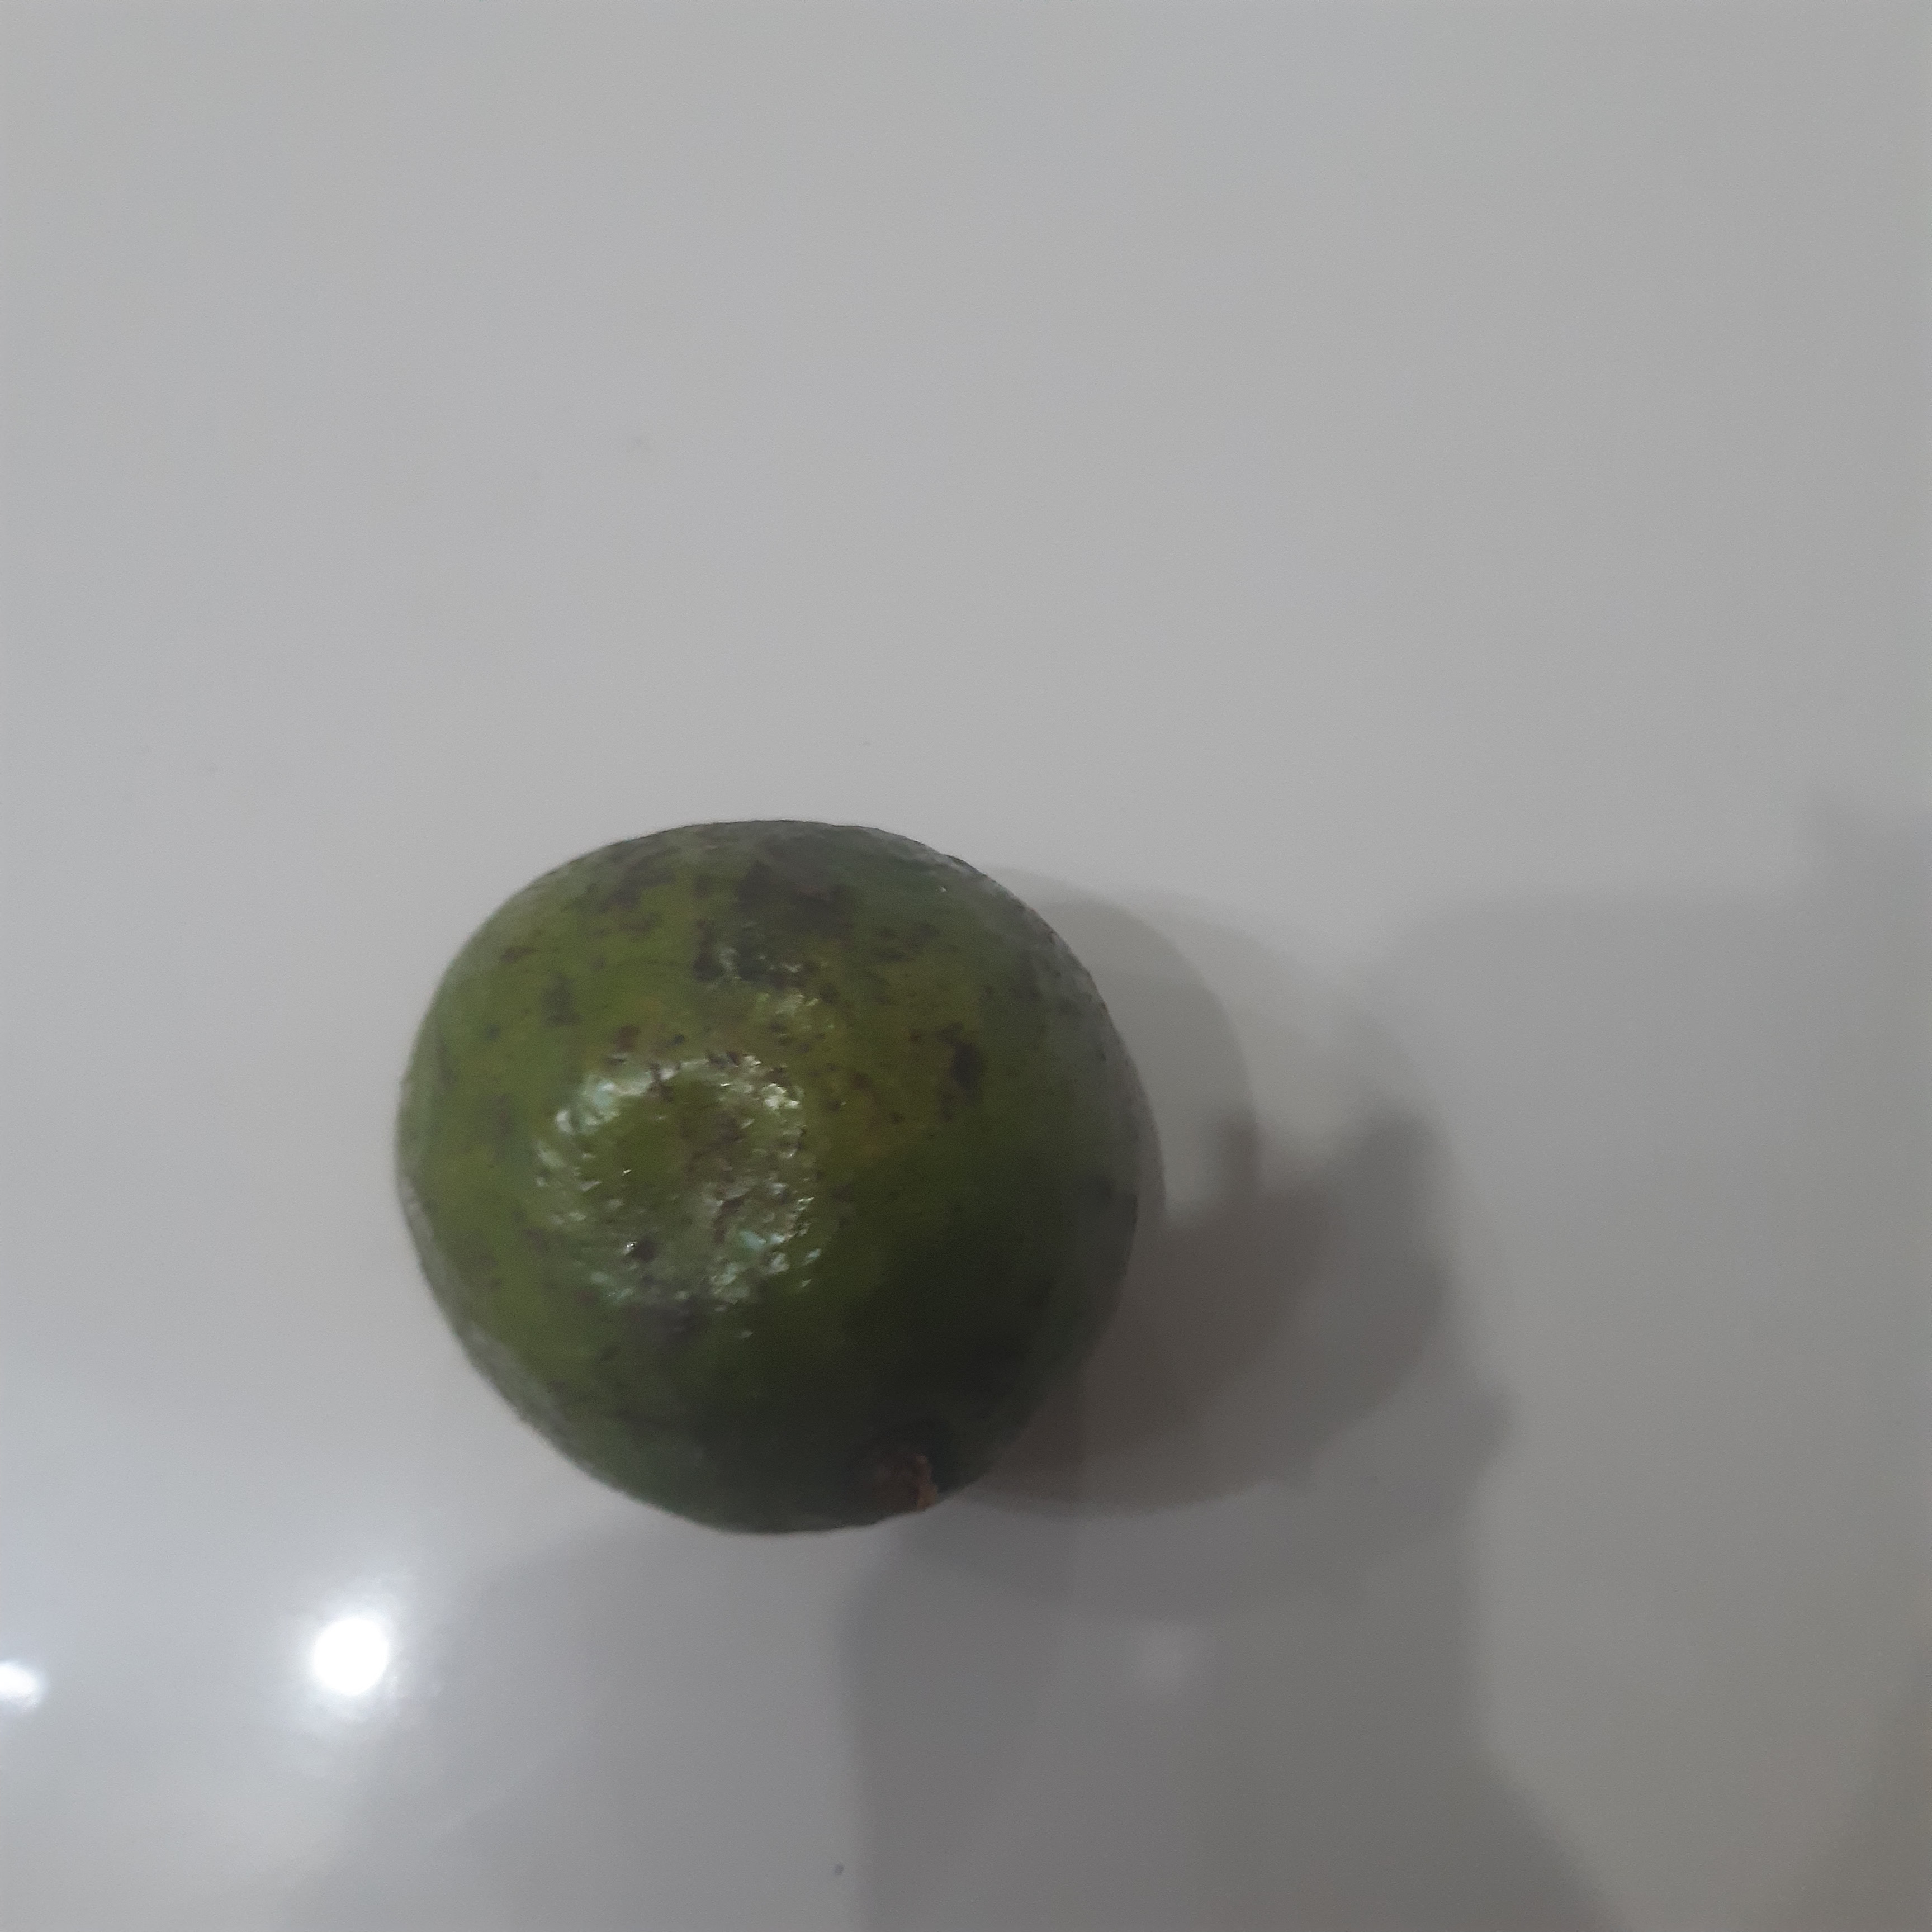Bo: (393, 816, 1132, 1539)
